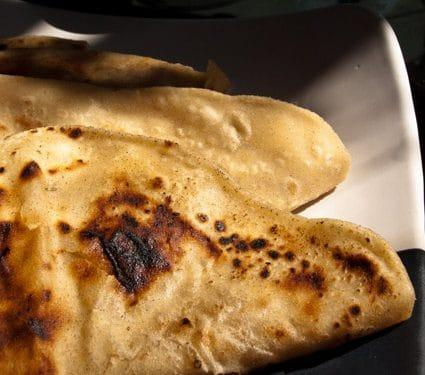chapati: (0, 126, 414, 374), (0, 36, 350, 210)
